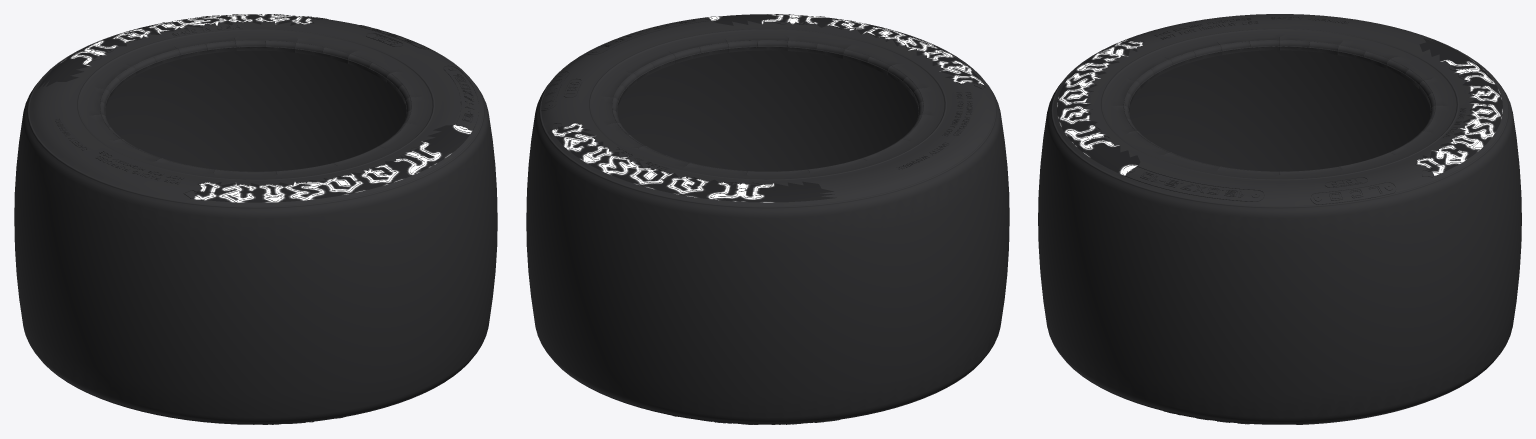
Rendered from tire-hoosier-step.6182594db447.glb.
3 views of the same model, side by side, from view 1: azimuth 30°, elevation 25°; view 2: azimuth 150°, elevation 25°; view 3: azimuth 270°, elevation 25° (orthographic).
Parts seen in each view (by area): view 1: Hoosier 16x7.5-10 LC0; view 2: Hoosier 16x7.5-10 LC0; view 3: Hoosier 16x7.5-10 LC0.
Part boxes in pixels (bbox=[...]): Hoosier 16x7.5-10 LC0: bbox=[14, 14, 497, 424]; Hoosier 16x7.5-10 LC0: bbox=[526, 14, 1009, 424]; Hoosier 16x7.5-10 LC0: bbox=[1038, 14, 1521, 424].
Bounding box in the file's own units: 0.4061 × 0.2158 × 0.4064.
2 materials, 1 textured.
